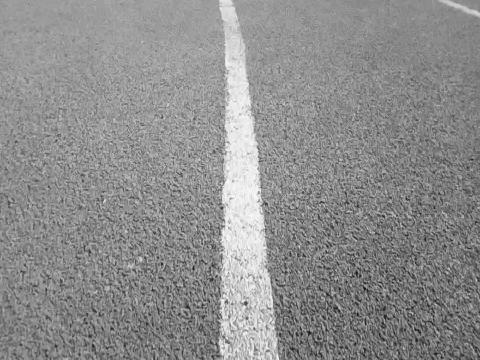Lines: (218, 0, 280, 360)
